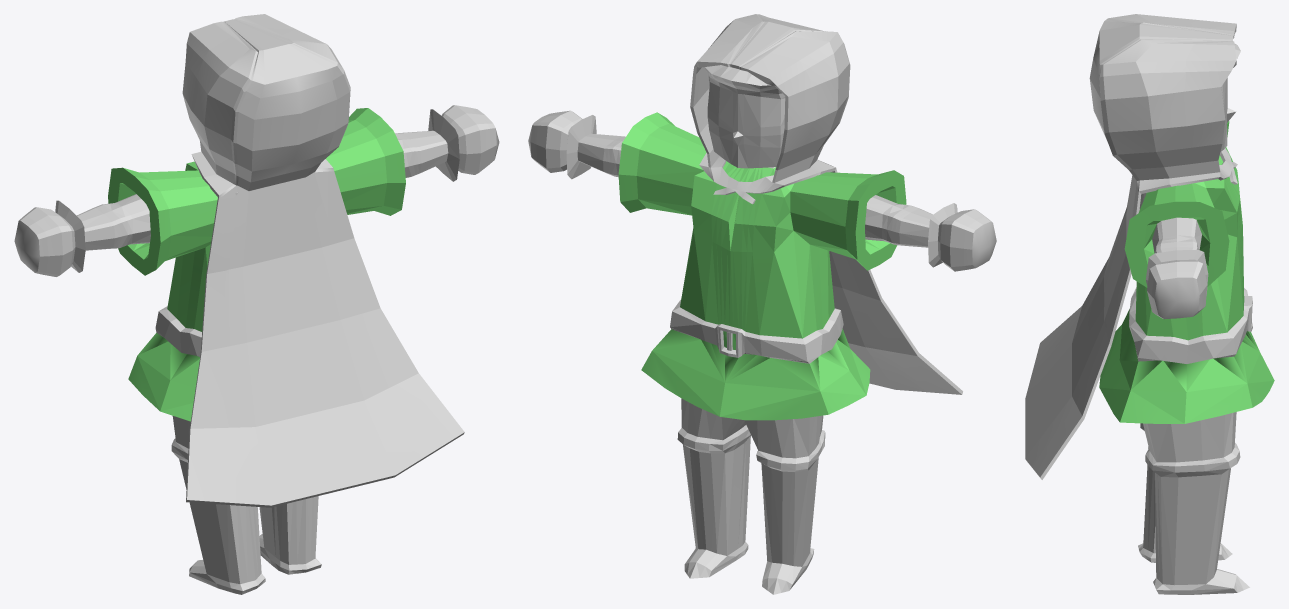
The model's file is char.fbx.
3 renders of one model, left to right at view 1: azimuth 30°, elevation 25°; view 2: azimuth 150°, elevation 25°; view 3: azimuth 270°, elevation 25°, orthographic. The views are drawn at different scales.
Parts seen in each view (by area): view 1: char; view 2: char; view 3: char.
Part boxes in pixels (x1,y1,x2,y2): char: (14, 14, 499, 594); char: (528, 14, 996, 594); char: (1025, 14, 1274, 594).
Size of the model in its own units: 2099 by 2329 by 969.
